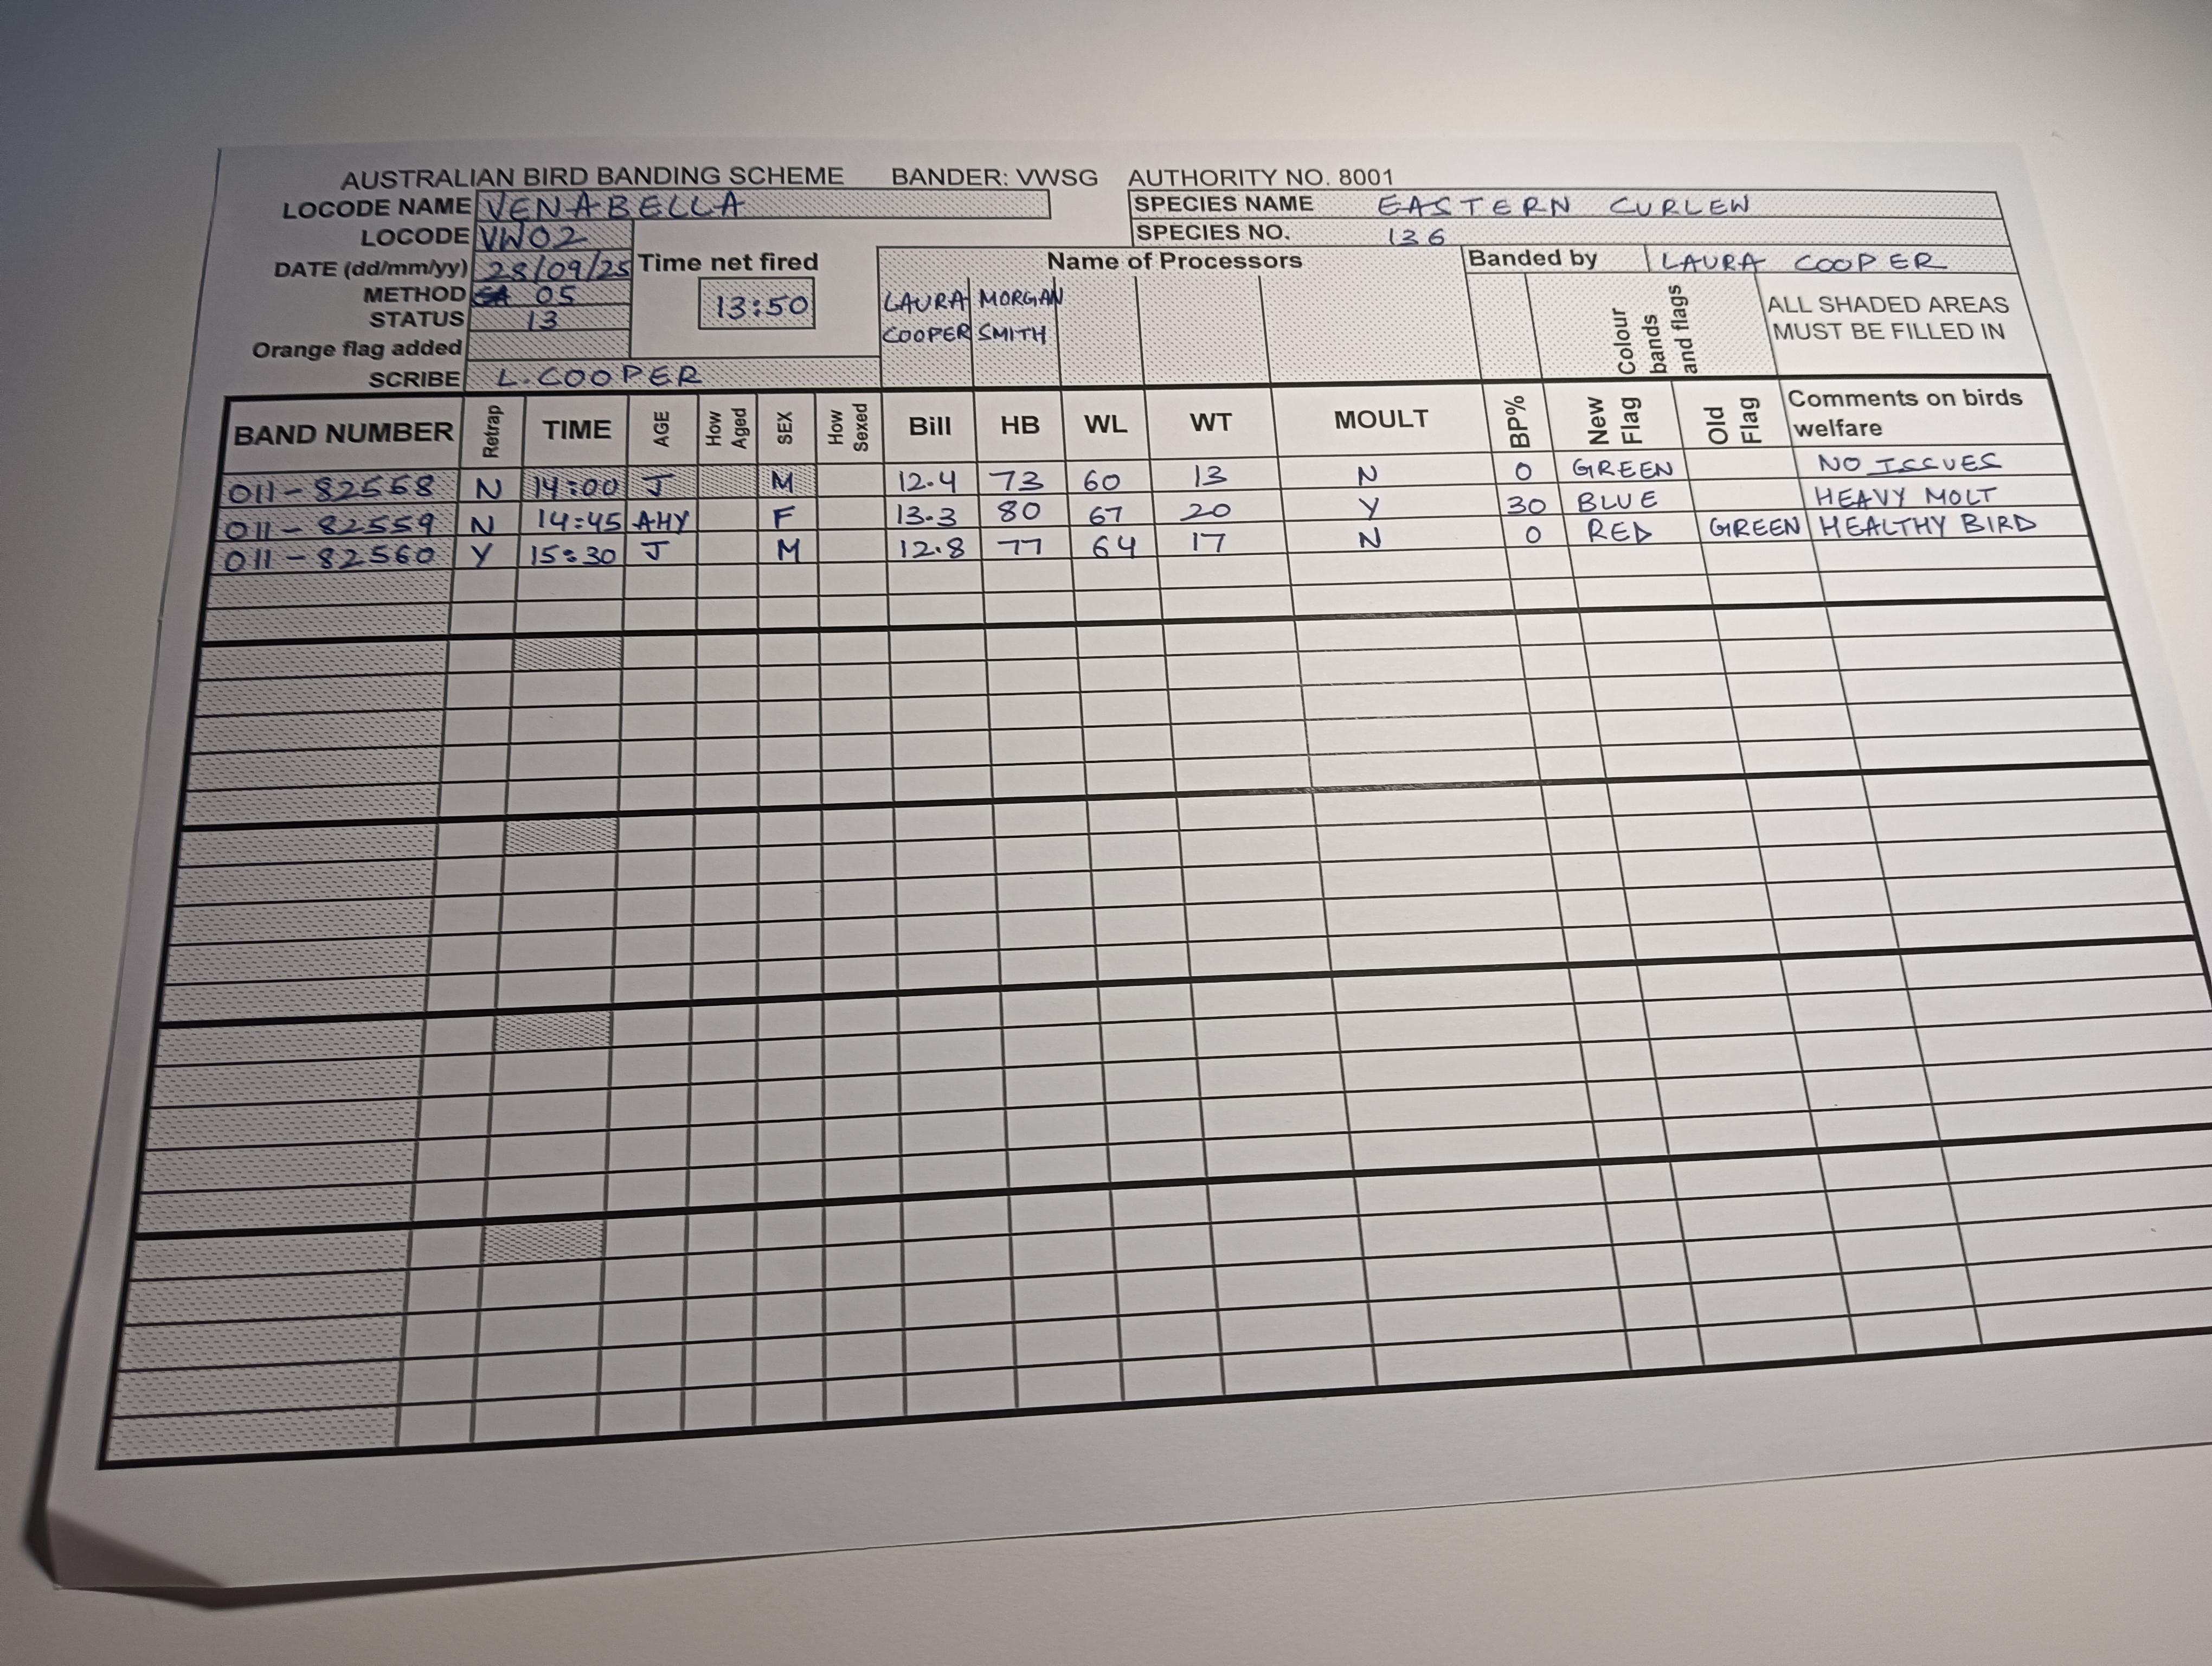BANDED_BY: (1464, 245, 2021, 276)
DATA: (212, 501, 2091, 581), (210, 474, 2083, 539), (224, 445, 2079, 504)
DATE: (261, 249, 643, 283)
LOCOCODE: (316, 222, 642, 250)
LOCOCODE_NAME: (271, 189, 1051, 224)
METHOD: (346, 278, 636, 308)
NAME_OF_PROCESSORS: (972, 271, 1075, 387), (880, 269, 972, 390)
ORANGE_FLAG_ADDED: (238, 327, 640, 362)
SCRIBE: (346, 357, 881, 392)
SPECIES_NAME: (1128, 191, 2002, 217)
SPECIES_NO: (1133, 215, 2007, 250)
STATUS: (348, 303, 638, 332)
TIME_NET_FIRED: (636, 243, 839, 341)
